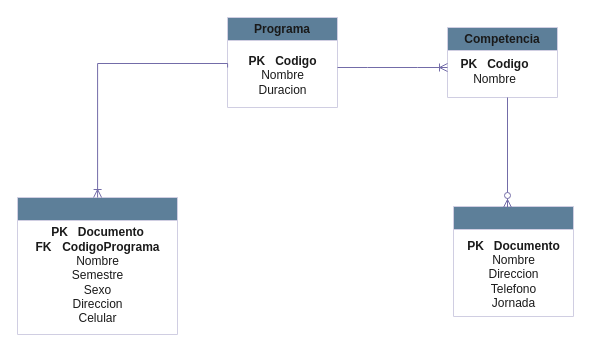
Image size: 591x352. Some labels were removed from this diagram. The box of each missing label's shape, as (x1, y1, x2, y2) in pixels:
Estudiante: (16, 196, 178, 334)
Profesor: (452, 206, 574, 316)
